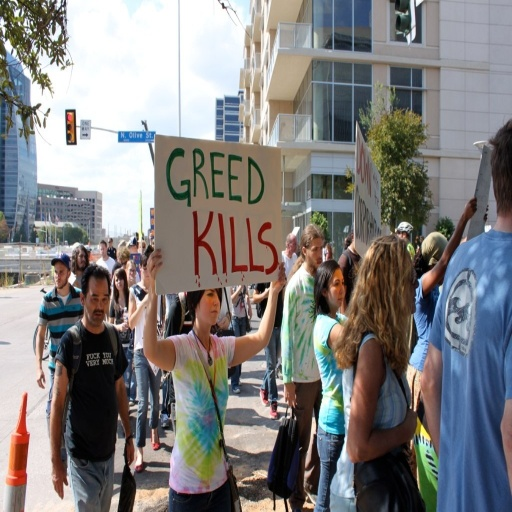hand: (49, 464, 66, 500), (145, 245, 161, 282), (269, 259, 285, 294), (402, 404, 416, 436), (123, 434, 137, 463), (462, 196, 477, 219), (284, 382, 296, 407), (34, 362, 45, 388), (217, 316, 228, 331), (247, 302, 254, 320), (483, 201, 488, 222), (119, 320, 127, 333), (143, 290, 149, 306), (262, 286, 269, 296), (130, 273, 136, 283)
